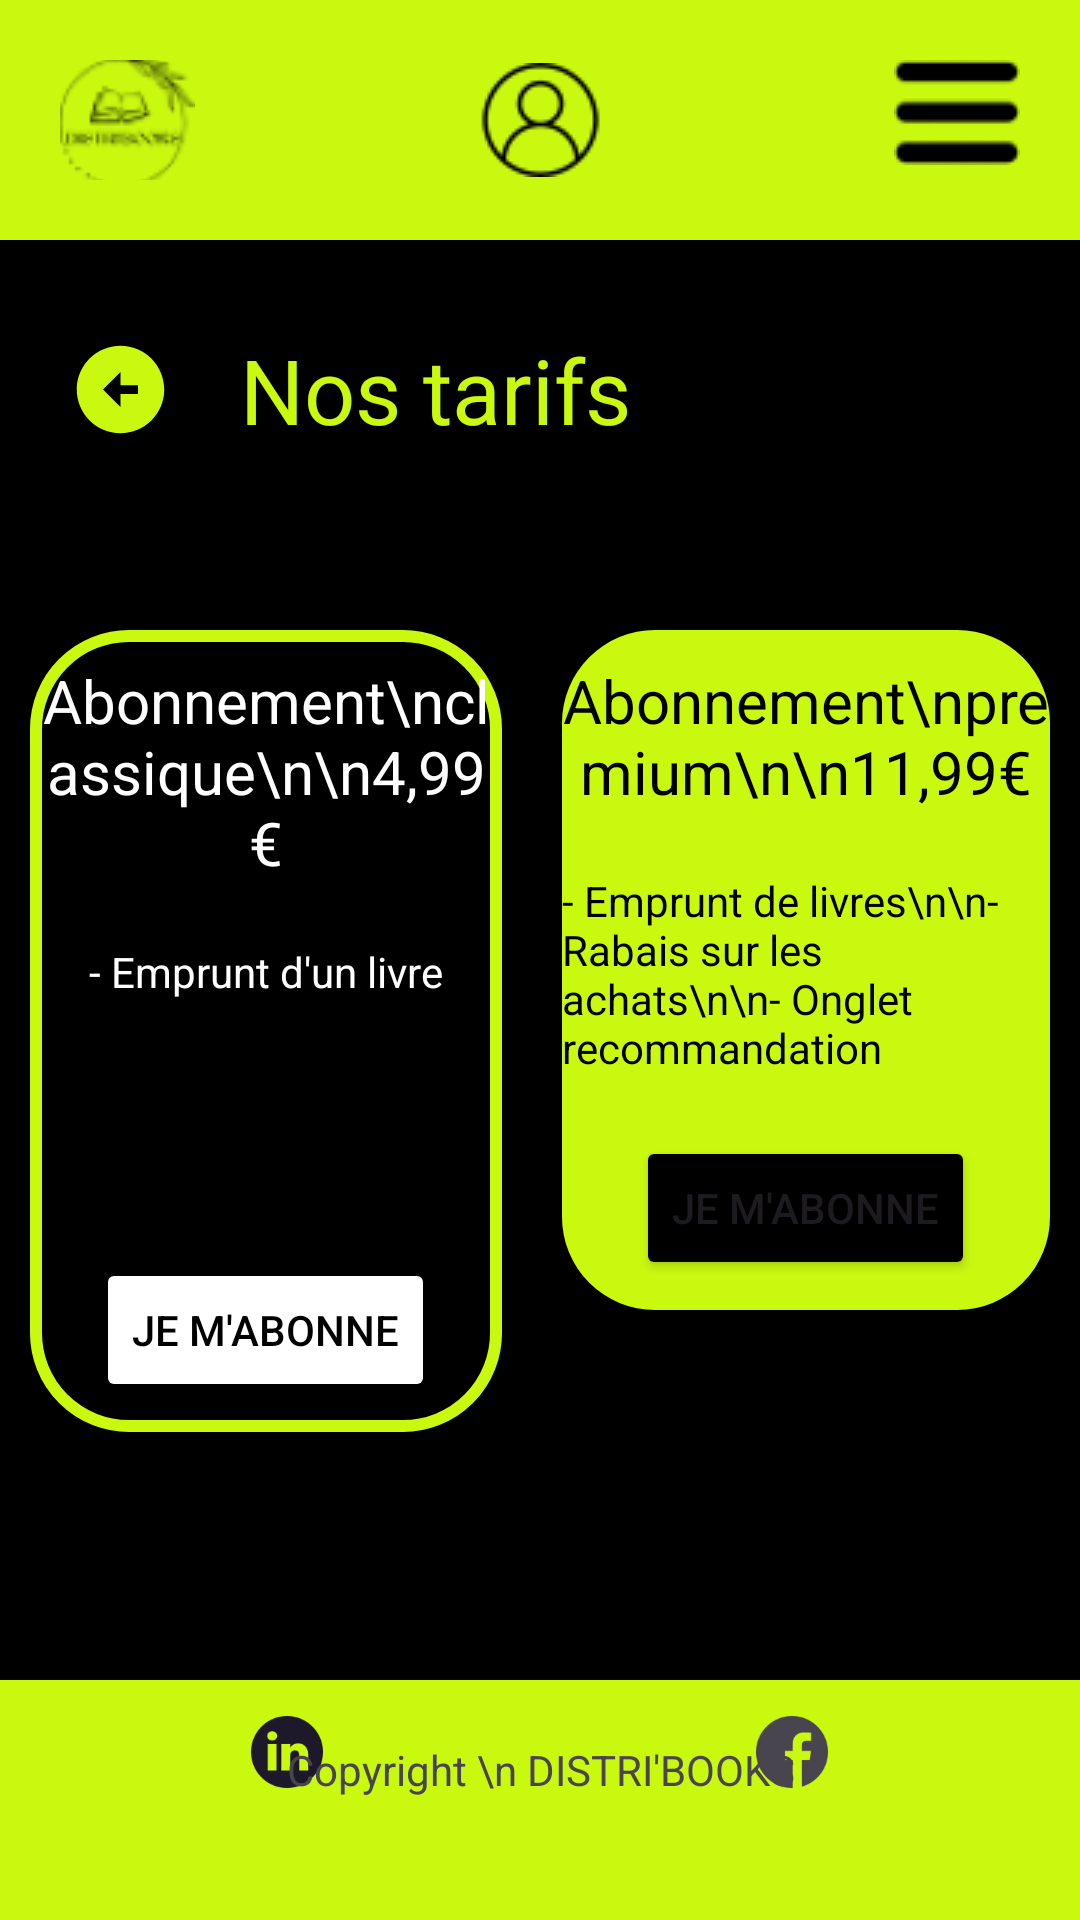

Screen size 1080 x 1920. Icon name, then its box in pixels as (x1, y1, x2, y2):
arrow circle left: (76, 345, 165, 434)
